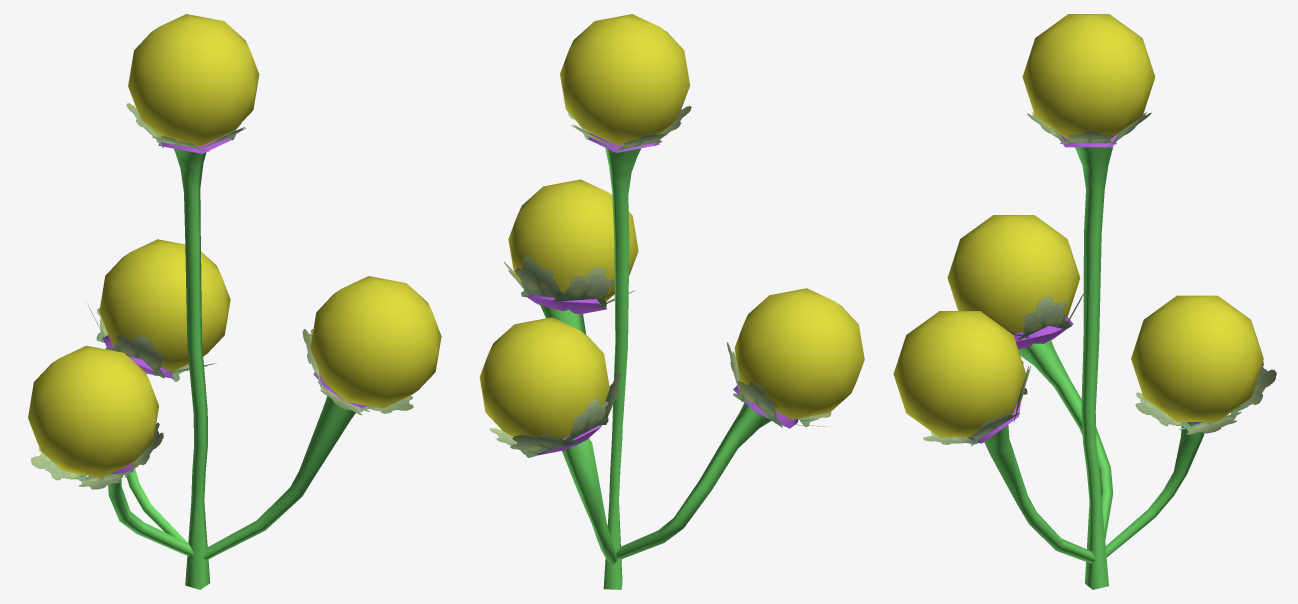
File: BlobFlower.fbx
3 renders of one model, left to right at view 1: azimuth 30°, elevation 25°; view 2: azimuth 150°, elevation 25°; view 3: azimuth 270°, elevation 25°, orthographic.
Parts seen in each view (by area): view 1: Icosphere.000; view 2: Icosphere.000; view 3: Icosphere.000.
Part boxes in pixels (x1,y1,x2,y2): Icosphere.000: (28,14,441,589); Icosphere.000: (479,14,864,589); Icosphere.000: (893,14,1276,589).
Size of the model in its own units: 0.5812 by 0.8428 by 0.5278.
